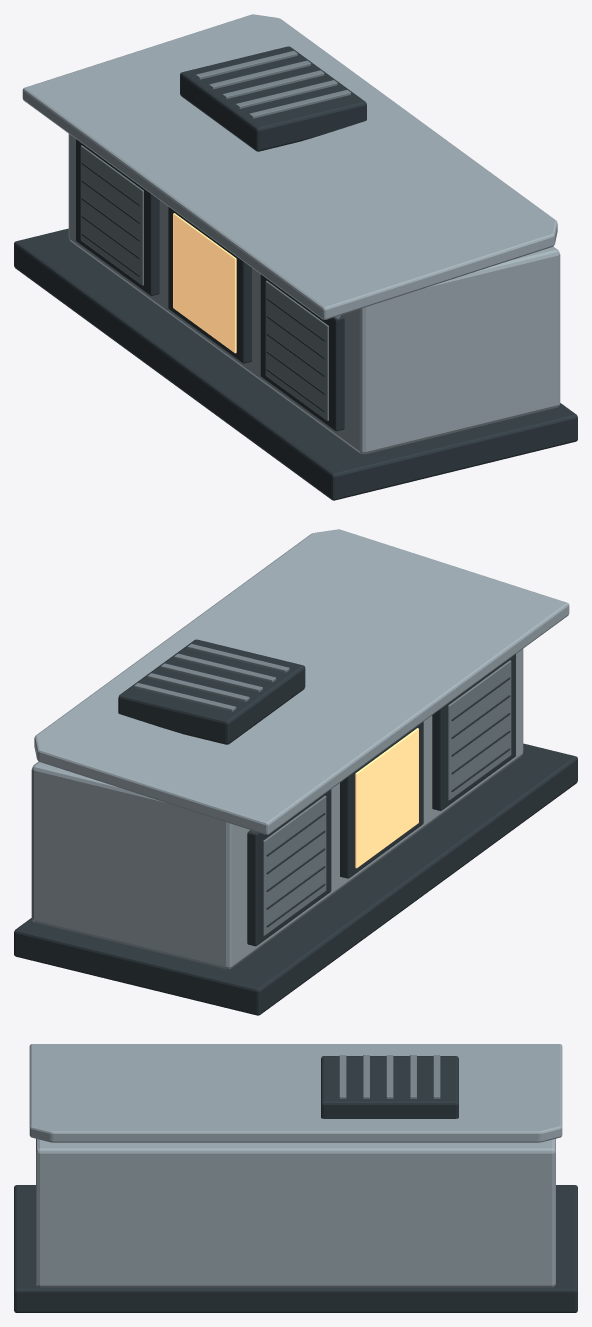
File: Nocturne_ServiceWorkshop_A.fbx
The picture shows the model from 3 angles, top to bottom: view 1: azimuth 30°, elevation 25°; view 2: azimuth 150°, elevation 25°; view 3: azimuth 270°, elevation 25°; orthographic projection. The views are drawn at different scales.
Parts seen in each view (by area): view 1: Nocturne_ServiceWorkshop_A; view 2: Nocturne_ServiceWorkshop_A; view 3: Nocturne_ServiceWorkshop_A.
Part boxes in pixels (box(x1,y1,x2,y2)): Nocturne_ServiceWorkshop_A: box(14, 14, 577, 500); Nocturne_ServiceWorkshop_A: box(14, 529, 577, 1015); Nocturne_ServiceWorkshop_A: box(14, 1044, 577, 1312).
Bounding box in the file's own units: 8 × 6.99 × 18.
